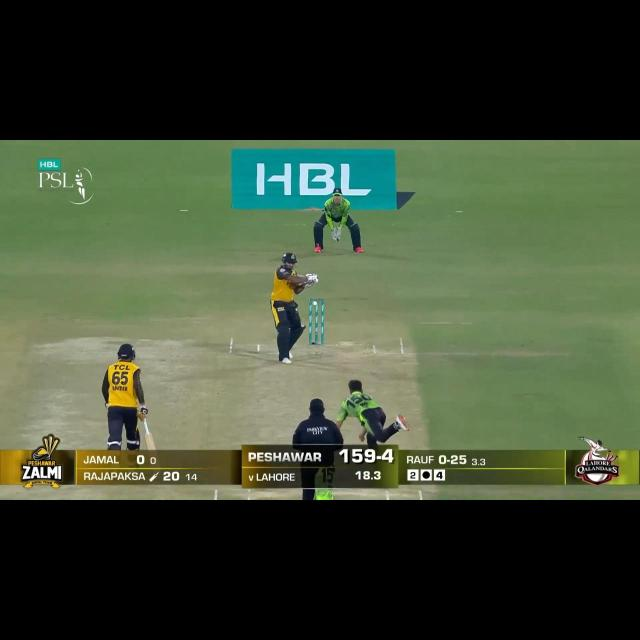bat: (144, 434, 158, 451), (306, 271, 318, 284)
